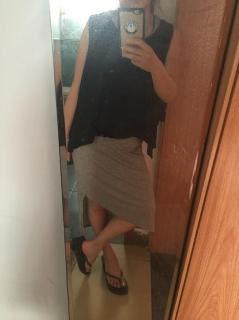vest: (72, 11, 174, 238)
vest dress: (68, 10, 175, 157)
